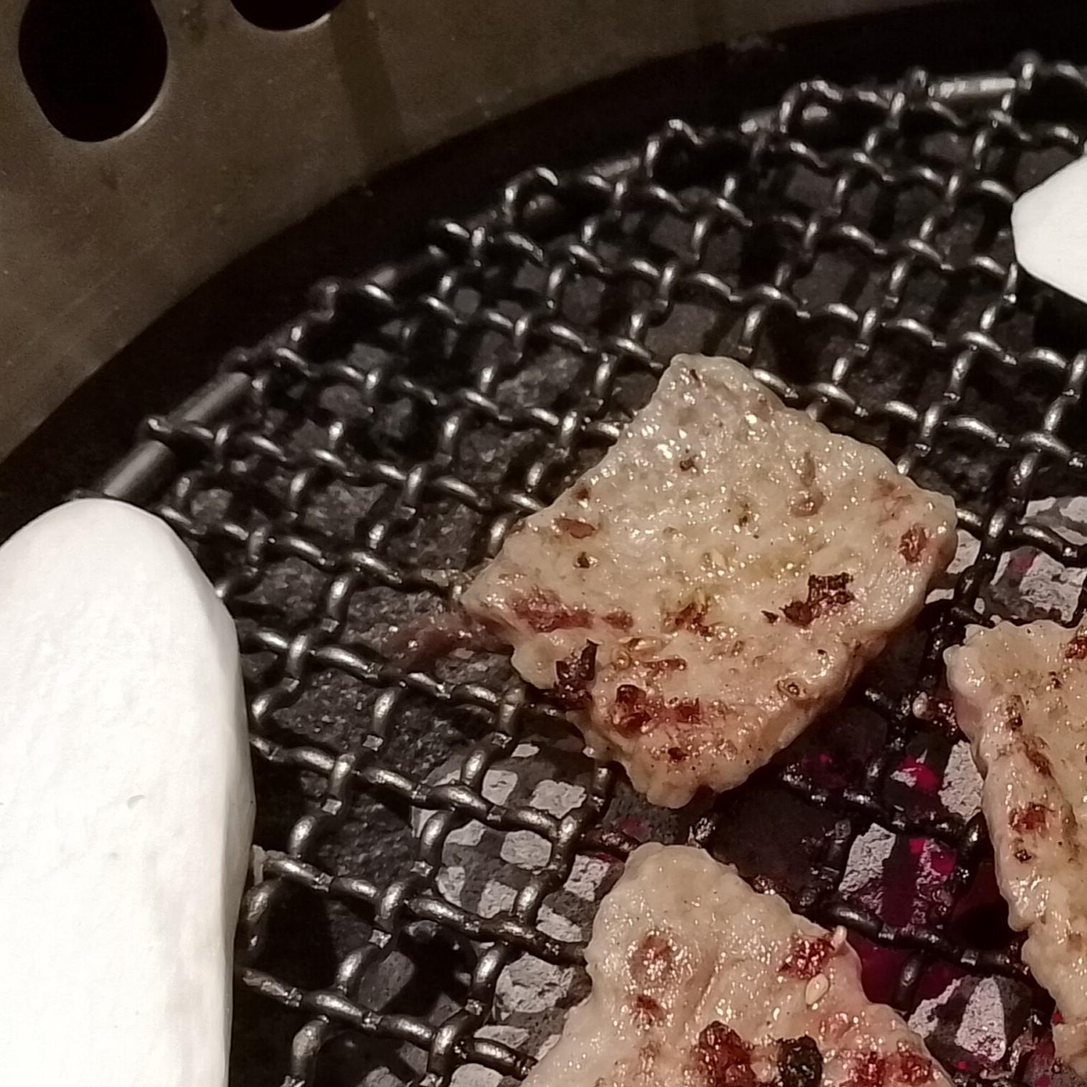Overcooked: (441, 353, 958, 822), (510, 844, 1028, 1086), (941, 601, 1086, 1076)
